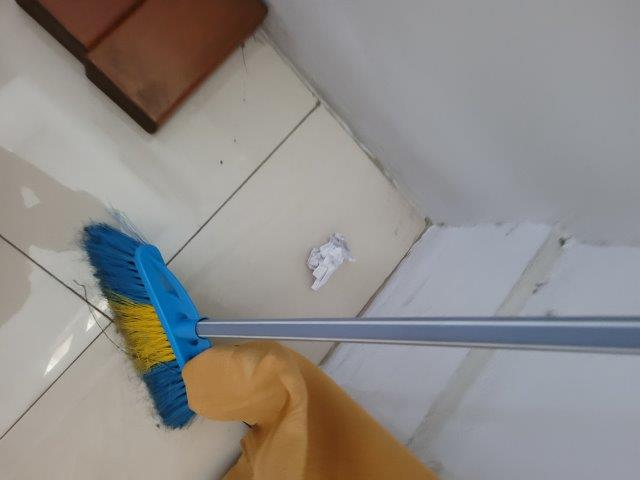kertas: (303, 235, 356, 291)
